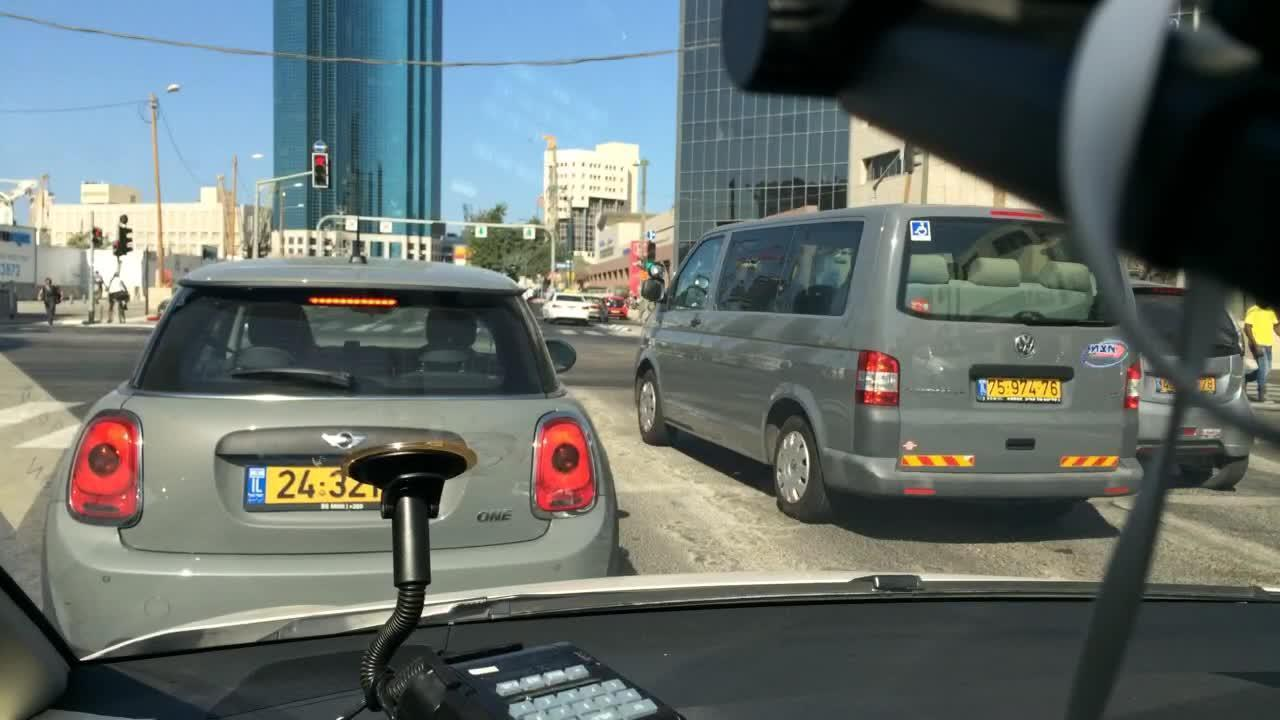mini: (314, 422, 371, 460)
